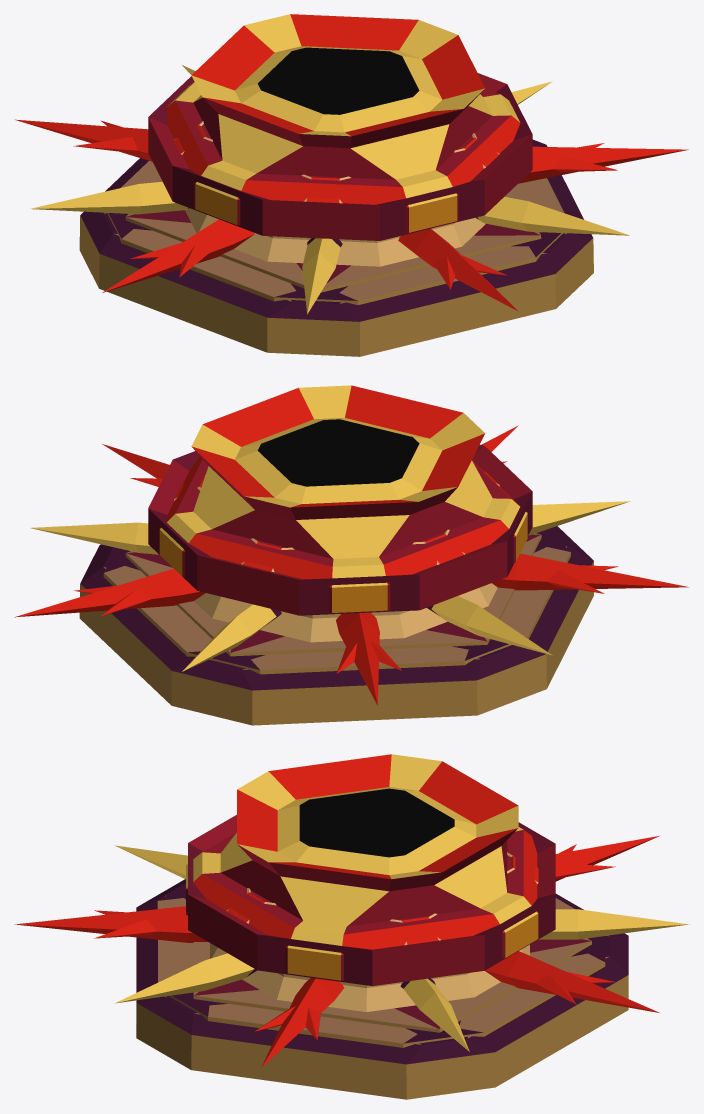
File: alienBosses.fbx
3 views of the same model, one above another, from view 1: azimuth 30°, elevation 25°; view 2: azimuth 150°, elevation 25°; view 3: azimuth 270°, elevation 25° (orthographic).
Visible parts, largest first — view 1: Boss2Lvl3, Boss2Lvl2, Boss2Lvl3Arms, Boss2Lvl1; view 2: Boss2Lvl3, Boss2Lvl2, Boss2Lvl3Arms, Boss2Lvl1; view 3: Boss2Lvl3, Boss2Lvl2, Boss2Lvl3Arms, Boss2Lvl1.
Part boxes in pixels (x1=…): Boss2Lvl3: x1=79, y1=14, x2=593, y2=356; Boss2Lvl2: x1=107, y1=73, x2=564, y2=304; Boss2Lvl3Arms: x1=15, y1=65, x2=688, y2=314; Boss2Lvl1: x1=125, y1=121, x2=541, y2=292; Boss2Lvl3: x1=79, y1=385, x2=593, y2=725; Boss2Lvl2: x1=103, y1=444, x2=570, y2=674; Boss2Lvl3Arms: x1=14, y1=425, x2=688, y2=705; Boss2Lvl1: x1=125, y1=471, x2=541, y2=656; Boss2Lvl3: x1=136, y1=754, x2=628, y2=1099; Boss2Lvl2: x1=157, y1=815, x2=605, y2=1047; Boss2Lvl3Arms: x1=14, y1=836, x2=689, y2=1067; Boss2Lvl1: x1=193, y1=852, x2=591, y2=1032.
Bounding box in the file's own units: 251 × 70.58 × 249.
Materials: 1 (1 with a texture image).
